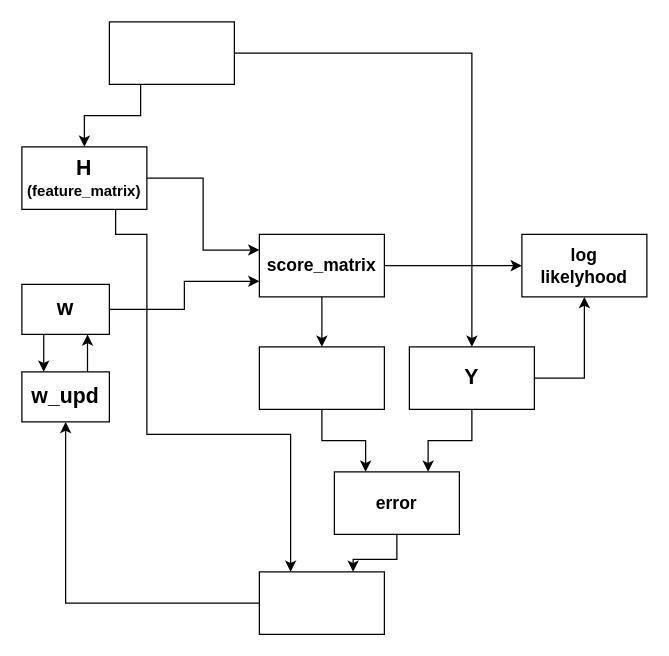
Some shapes in this 669 by 656 pixel diagram are drawn without their labels. The box of each missing label's shape, as (x1, y1, x2, y2) in pixels:
gradient: (258, 571, 384, 634)
probabilities: (258, 346, 384, 409)
Training data: (108, 21, 234, 84)
